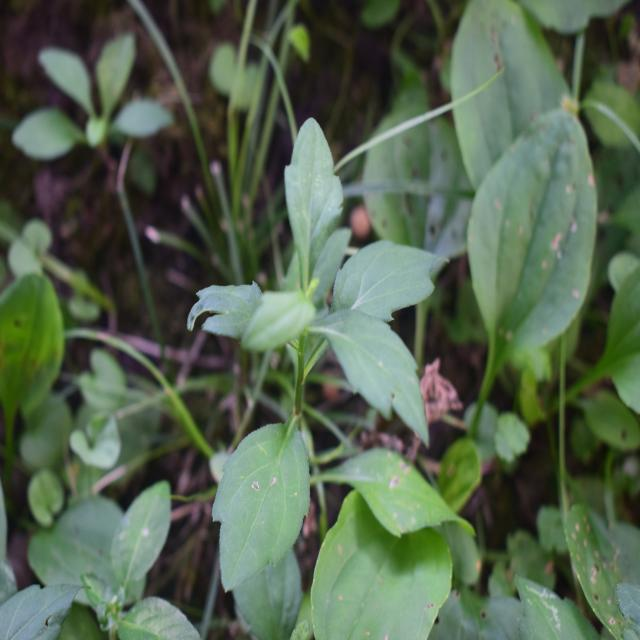Indian aster: (192, 133, 403, 480)
